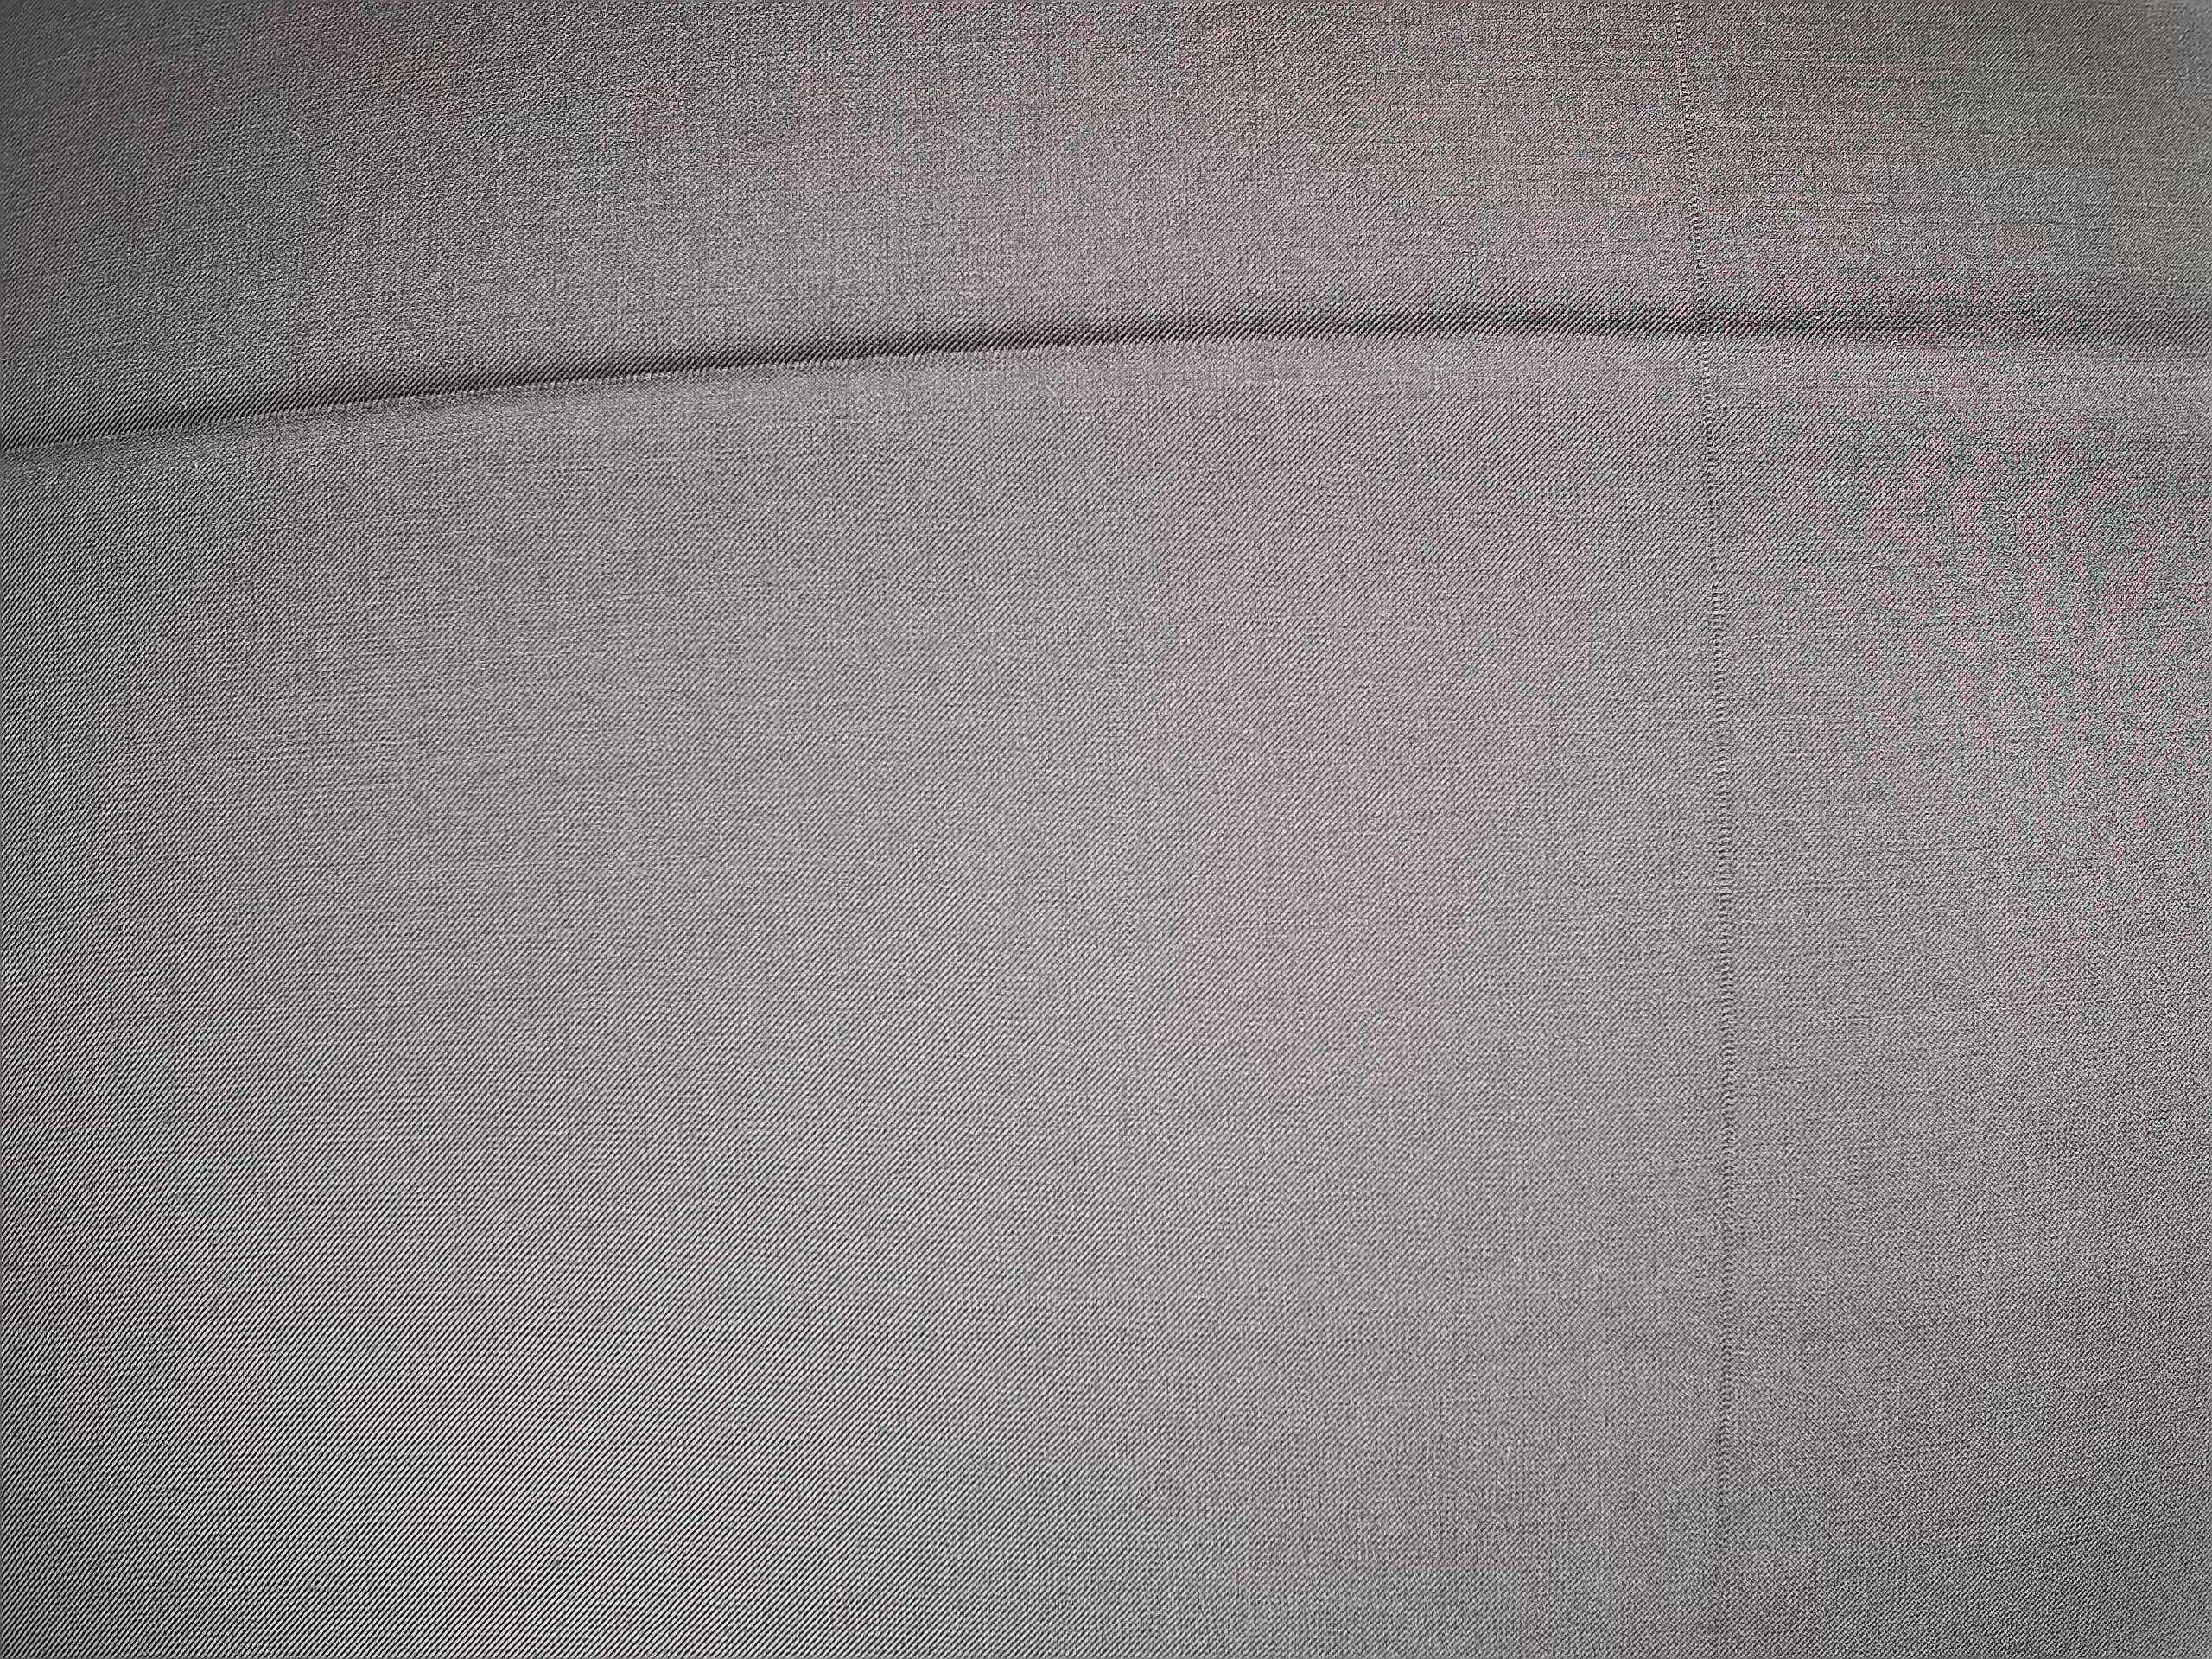hanging-warp: (1649, 9, 1752, 1650)
